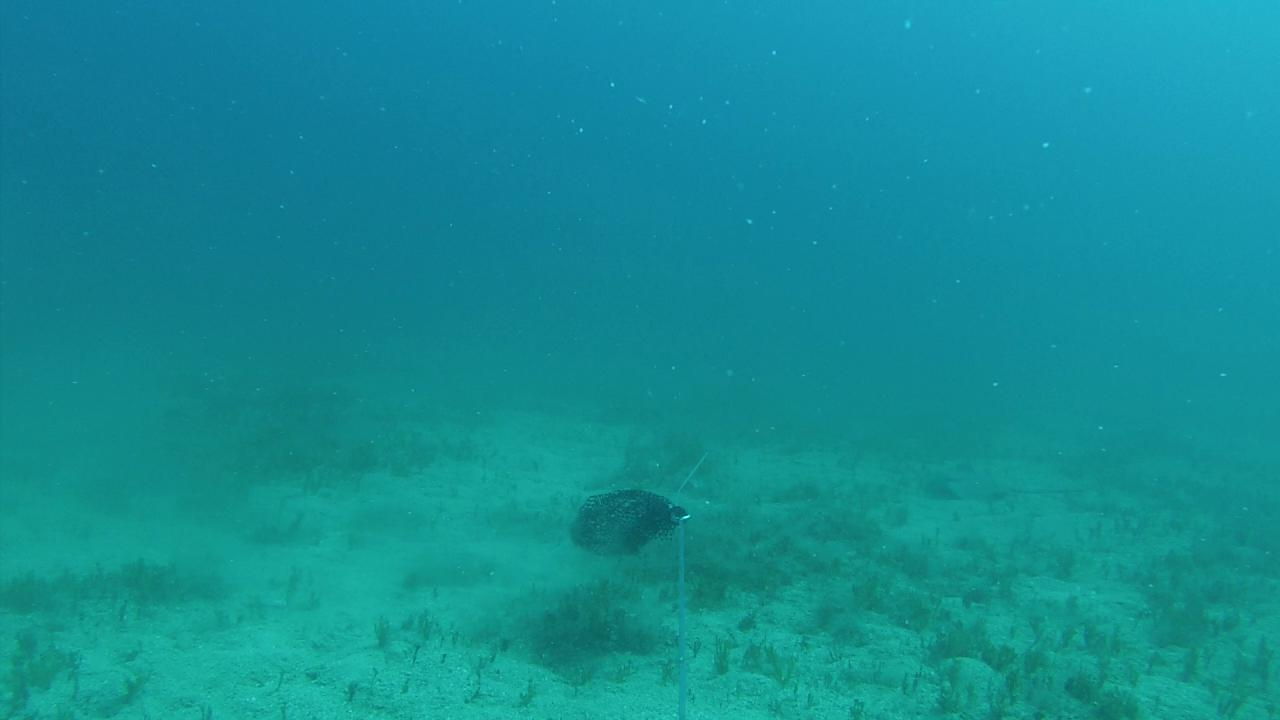dasyatis: (944, 468, 1086, 501)
